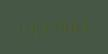eight: (71, 19, 79, 33)
four: (62, 19, 70, 33)
one: (17, 21, 25, 35), (26, 20, 34, 34)
seven: (44, 20, 52, 34), (53, 20, 61, 33)
three: (80, 19, 88, 32)
zero: (35, 20, 43, 34)
